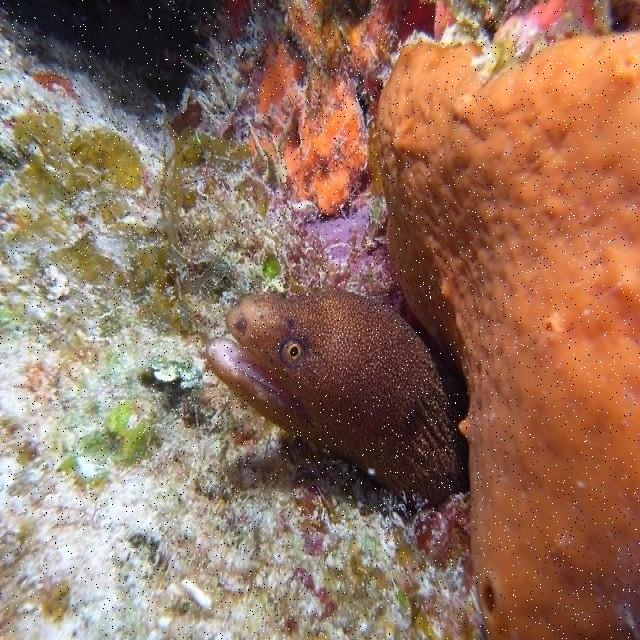fish: (207, 285, 469, 505)
reefs: (376, 32, 638, 638)
